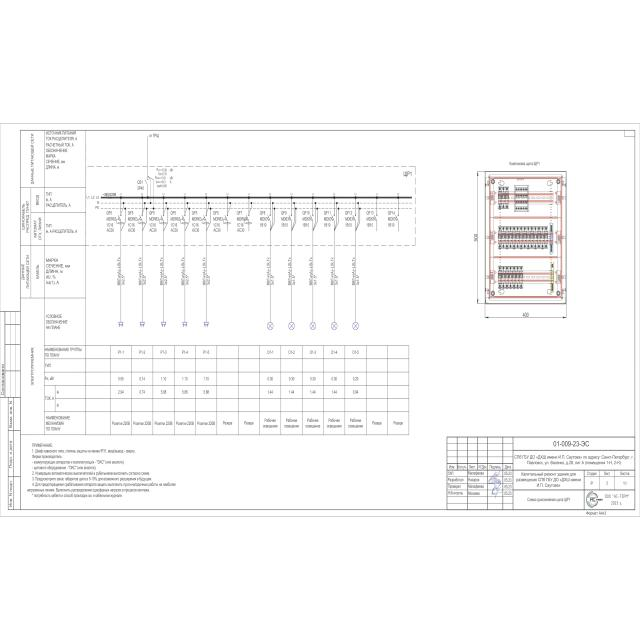-: (127, 217, 138, 233), (170, 217, 181, 233), (236, 217, 247, 233), (106, 216, 116, 233), (191, 216, 201, 233), (149, 217, 159, 233), (213, 216, 223, 232), (387, 216, 396, 229), (280, 216, 289, 228), (259, 216, 268, 228), (366, 216, 374, 229), (302, 216, 310, 229), (323, 217, 332, 228), (345, 216, 353, 228), (403, 170, 413, 178), (136, 186, 144, 192)
QF: (266, 213, 272, 222), (395, 213, 400, 222), (374, 213, 379, 222), (352, 214, 357, 222), (331, 214, 336, 222), (288, 214, 293, 222), (310, 214, 314, 222)
QFD: (222, 213, 232, 225), (159, 213, 168, 225), (180, 213, 189, 225), (244, 213, 253, 225), (116, 214, 125, 225), (138, 213, 146, 225), (202, 213, 210, 225)
QS: (144, 178, 148, 186)
